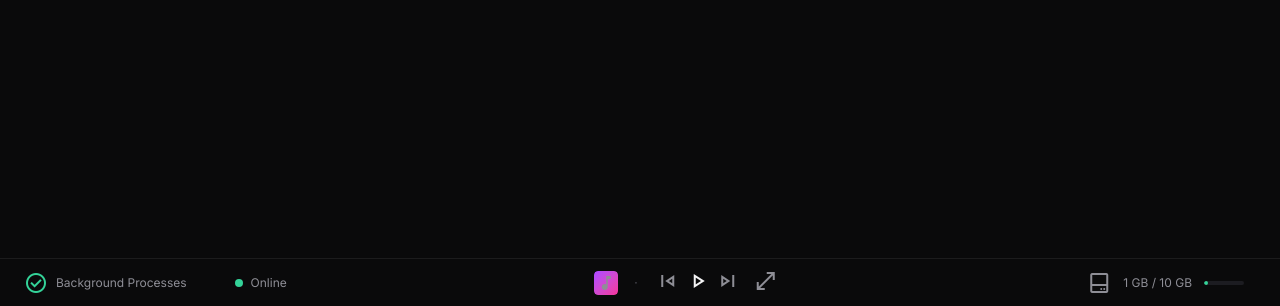
StatusBar (FE-7 fake telemetry removal) › shows "Last synced" from the real account last_synced instead of a hardcoded value
The width and height of the screenshot is (1280, 306).
What coordinates should you click on to do the following:
click the button with class "sync-status"
I would click on:
 (105, 282)
Its box is x1=12 y1=266 x2=199 y2=298.
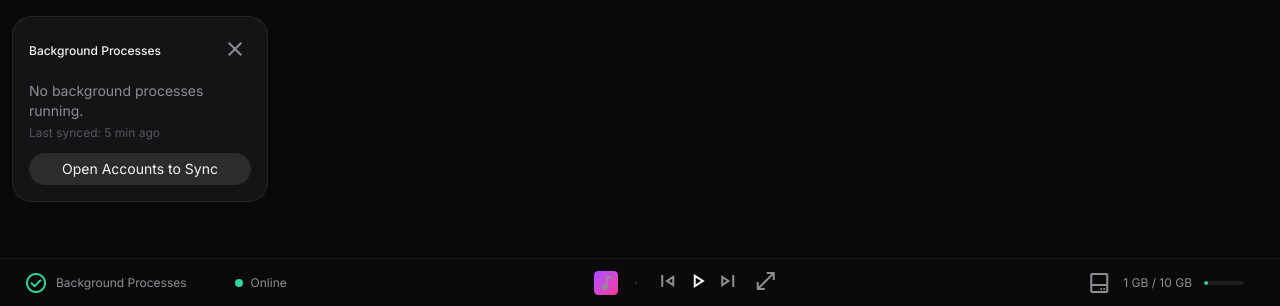
Expected: the text "Last synced: 5 min ago" is shown, x1=29 y1=125 x2=160 y2=140
